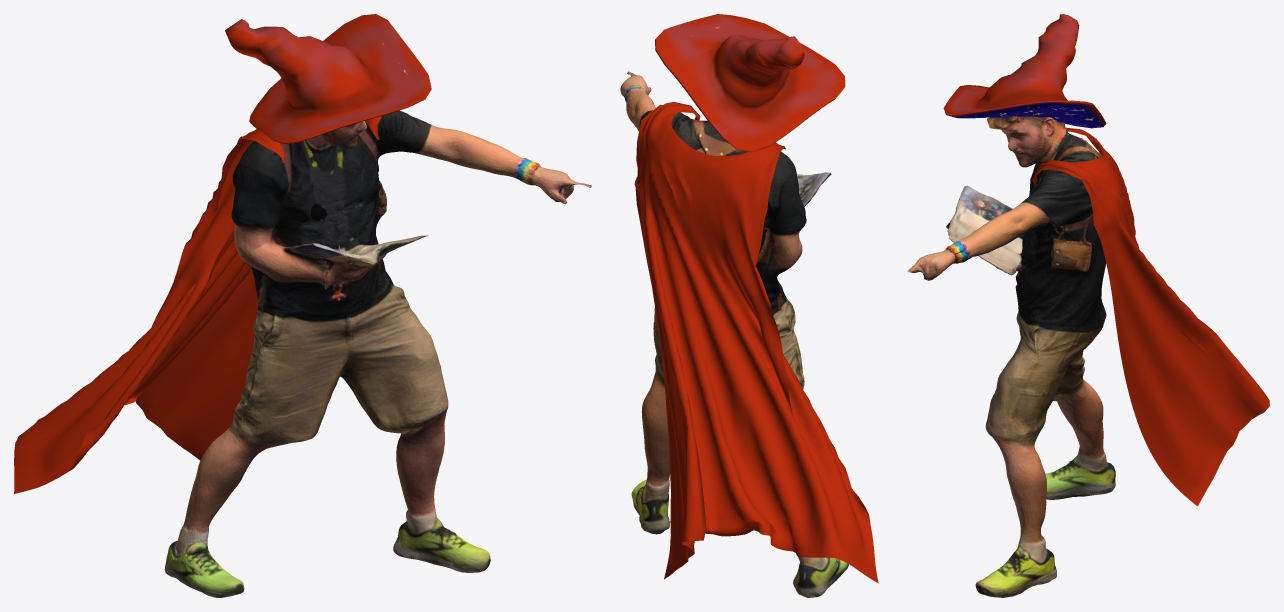
The model's file is EmberTheRed.glb.
3 views of the same model, side by side, from view 1: azimuth 30°, elevation 25°; view 2: azimuth 150°, elevation 25°; view 3: azimuth 270°, elevation 25° (orthographic). The views are drawn at different scales.
Visible parts, largest first — view 1: Emmett, Cape, WizardHat; view 2: Cape, WizardHat, Emmett; view 3: Emmett, Cape, WizardHat.
Boxes of the visible parts, bbox=[...] form: Emmett: bbox=[164, 110, 591, 597]; Cape: bbox=[14, 116, 381, 493]; WizardHat: bbox=[225, 14, 431, 143]; Cape: bbox=[634, 102, 878, 583]; WizardHat: bbox=[655, 14, 845, 152]; Emmett: bbox=[620, 71, 848, 597]; Emmett: bbox=[907, 116, 1115, 597]; Cape: bbox=[1032, 127, 1269, 506]; WizardHat: bbox=[943, 14, 1106, 128].
Size of the model in its own units: 1.1 by 1.42 by 0.9348.
Materials: 3 (2 with a texture image).
